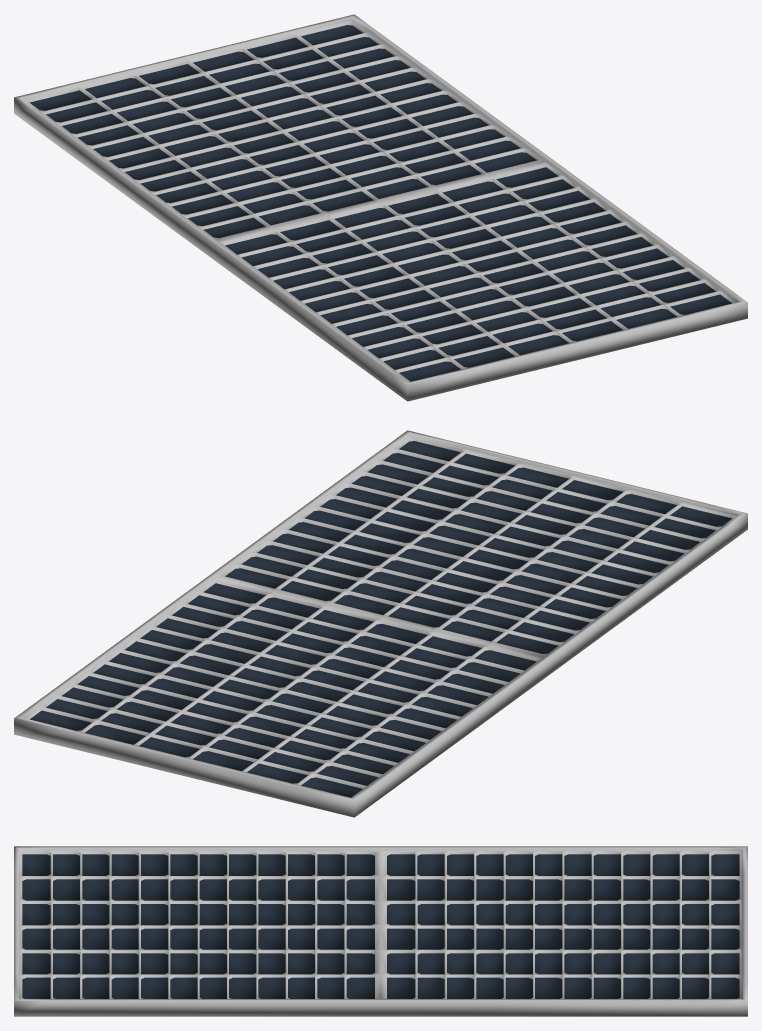
File: solar_panel.dae
3 views of the same model, one above another, from view 1: azimuth 30°, elevation 25°; view 2: azimuth 150°, elevation 25°; view 3: azimuth 270°, elevation 25° (orthographic). The views are drawn at different scales.
Visible parts, largest first — view 1: S_LP; view 2: S_LP; view 3: S_LP.
Part boxes in pixels (x1,y1,x2,y2): S_LP: (14, 14, 747, 401); S_LP: (14, 430, 747, 817); S_LP: (14, 846, 747, 1016).
Size of the model in its own units: 39.06 by 78.19 by 1.77.
1 material, 1 textured.
